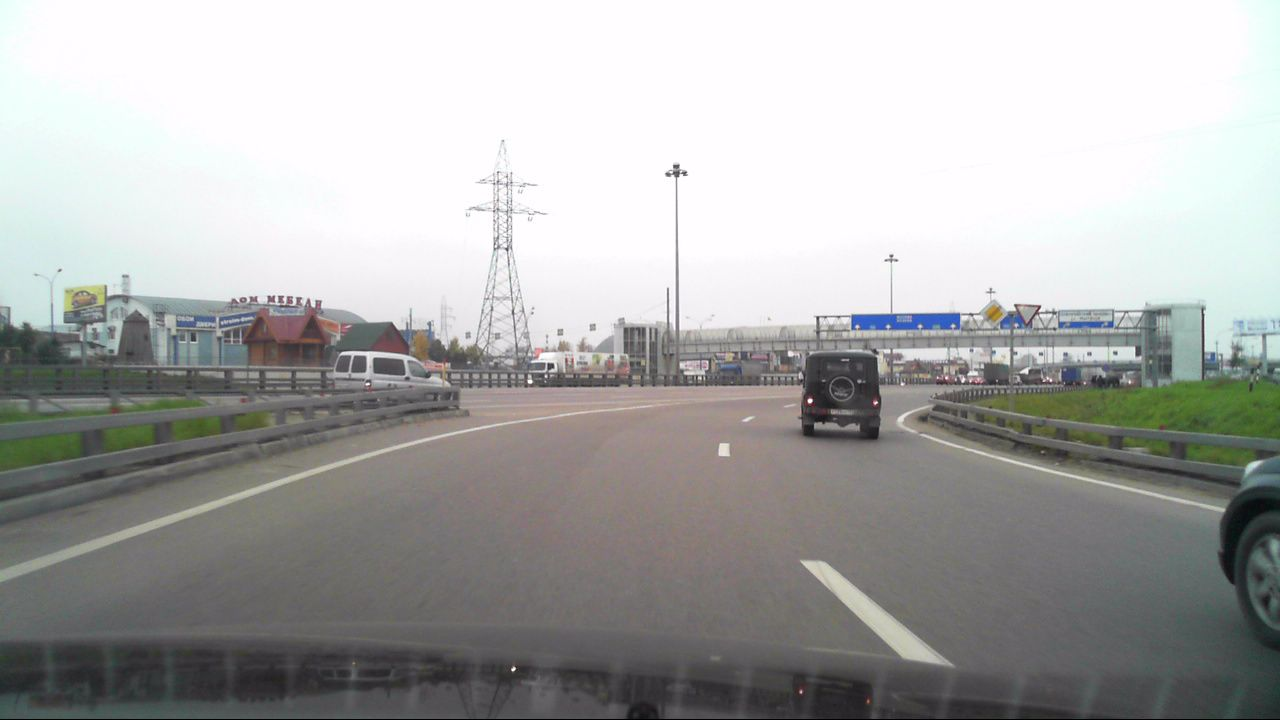main road: (978, 299, 1007, 326)
